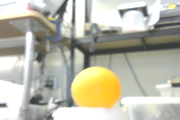PingPongBall: (72, 67, 121, 109)
